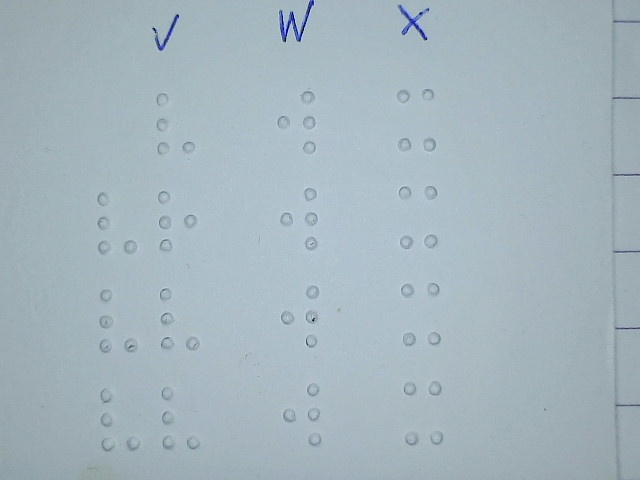V: (155, 90, 197, 156), (96, 191, 138, 257), (98, 287, 140, 353), (159, 384, 201, 450), (99, 385, 141, 451)
W: (276, 88, 318, 154), (278, 185, 320, 251), (279, 282, 321, 348), (281, 380, 323, 446)
X: (395, 87, 437, 153), (397, 183, 439, 249), (399, 280, 441, 346), (402, 380, 444, 446)
